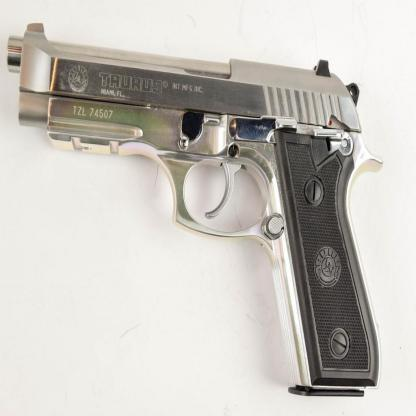Pistol: (6, 22, 384, 401)
